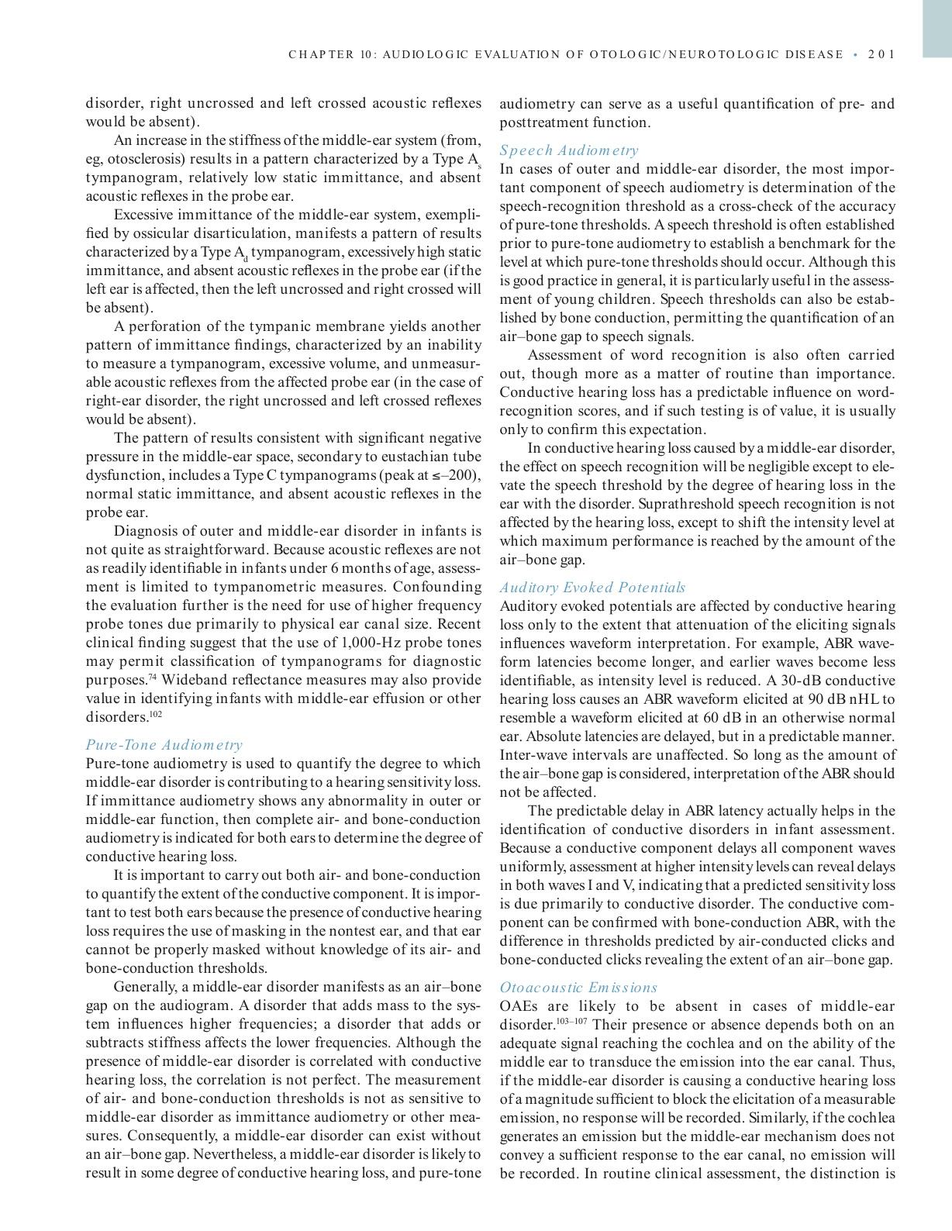header: (288, 49, 844, 60)
sub-section-heading: (497, 580, 686, 597), (84, 738, 244, 754), (498, 142, 642, 159), (499, 980, 659, 995)
text: (83, 94, 481, 724), (84, 755, 484, 1183), (496, 162, 902, 569), (498, 598, 896, 971), (498, 998, 897, 1182), (497, 96, 898, 130)
